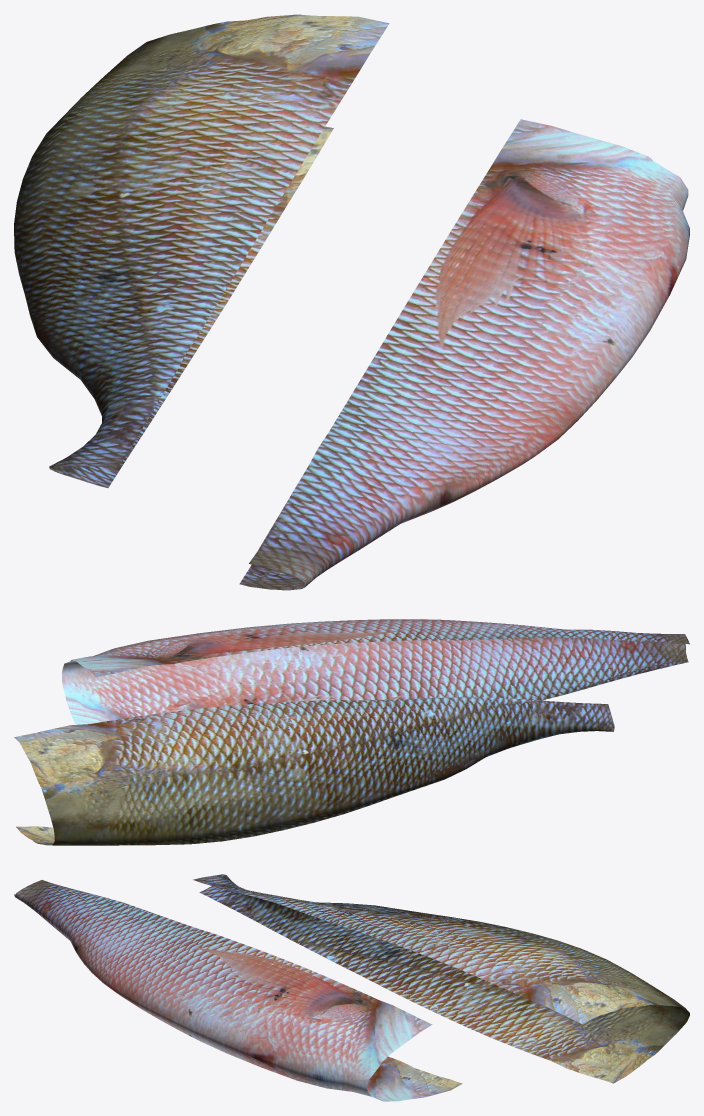
File: Fish_State_Final.fbx
3 views of the same model, one above another, from view 1: azimuth 30°, elevation 25°; view 2: azimuth 150°, elevation 25°; view 3: azimuth 270°, elevation 25° (orthographic). The views are drawn at different scales.
Visible parts, largest first — view 1: Body, Body.001; view 2: Body.001, Body; view 3: Body.001, Body.
Boxes of the visible parts, x1,y1,x2,y2 form: Body: [239, 119, 689, 590]; Body.001: [14, 14, 389, 487]; Body.001: [14, 697, 614, 845]; Body: [61, 619, 689, 724]; Body.001: [193, 874, 689, 1083]; Body: [14, 880, 462, 1101].
Size of the model in its own units: 6.71 by 1.23 by 8.98.
